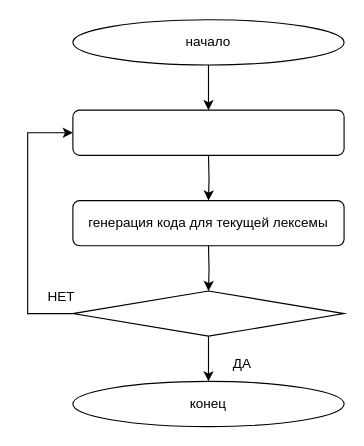
Image size: 364x446. Some labels were removed from this diagram. The shapes that lost their labels are listed below. From the top down, each one's box as (x1, y1, x2, y2) in pixels, then its label:
(72, 109, 344, 155): читаем лексему из таблицы лексем
(72, 290, 344, 336): таблица лексем пуста?
